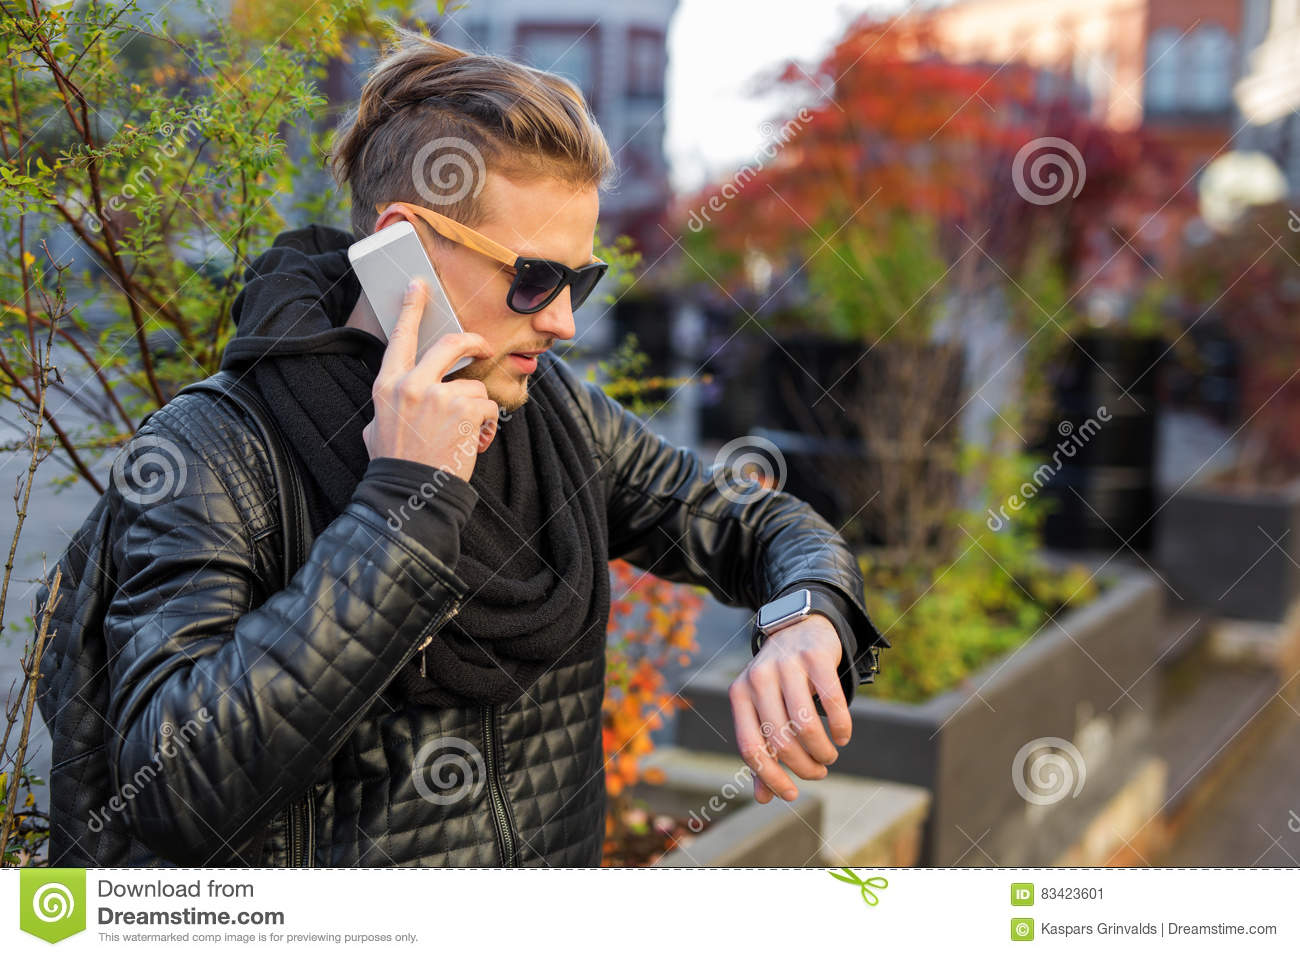phone: (350, 221, 471, 377)
talk: (343, 202, 599, 493)
